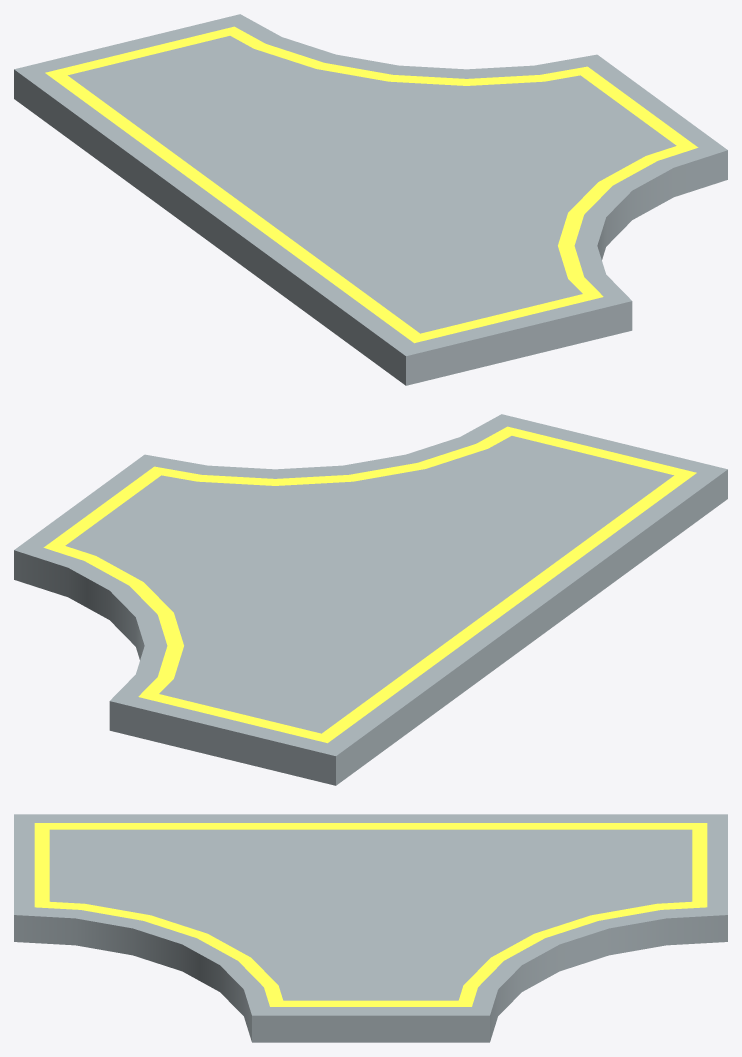
File: SM_PlatformCurvedT_v0.fbx
The picture shows the model from 3 angles, top to bottom: view 1: azimuth 30°, elevation 25°; view 2: azimuth 150°, elevation 25°; view 3: azimuth 270°, elevation 25°; orthographic projection. The views are drawn at different scales.
Parts seen in each view (by area): view 1: SM_PlatformCurvedT_v0; view 2: SM_PlatformCurvedT_v0; view 3: SM_PlatformCurvedT_v0.
Boxes of the visible parts, x1,y1,x2,y2 form: SM_PlatformCurvedT_v0: (14, 14, 727, 385); SM_PlatformCurvedT_v0: (14, 414, 727, 785); SM_PlatformCurvedT_v0: (14, 814, 727, 1042).
Bounding box in the file's own units: 2 × 0.125 × 3.
